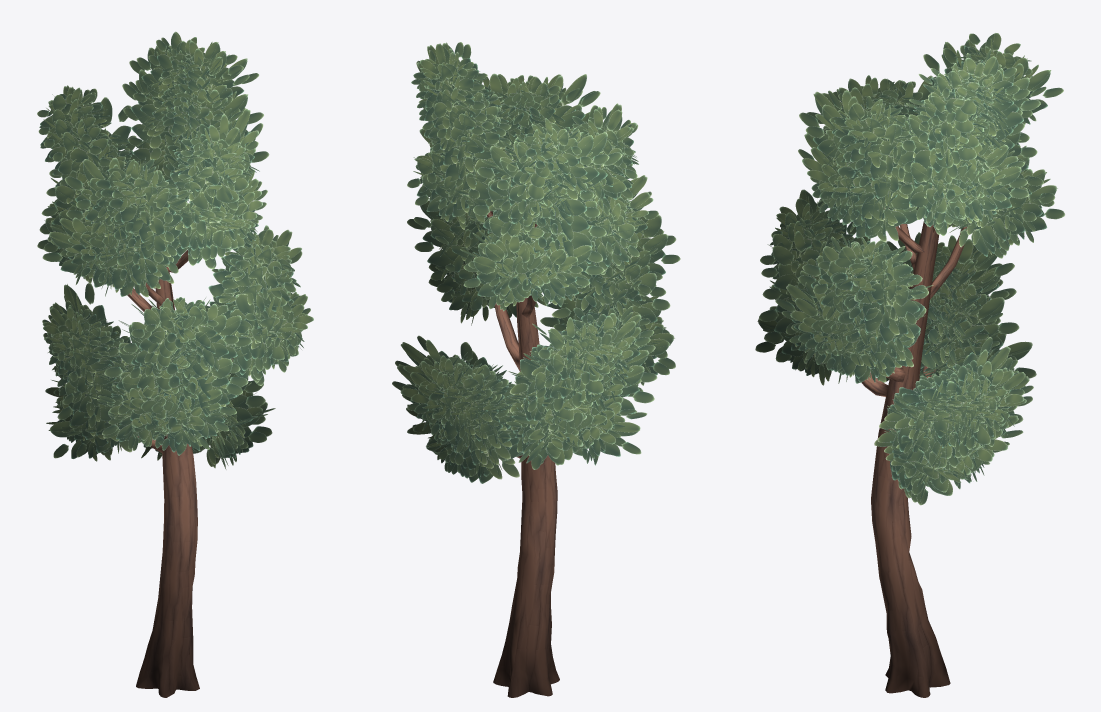
File: CommonTree_3.glb
The picture shows the model from 3 angles, left to right: view 1: azimuth 30°, elevation 25°; view 2: azimuth 150°, elevation 25°; view 3: azimuth 270°, elevation 25°; orthographic projection. The views are drawn at different scales.
Parts seen in each view (by area): view 1: CommonTree_3; view 2: CommonTree_3; view 3: CommonTree_3.
Part boxes in pixels (x1,y1,x2,y2): CommonTree_3: (37, 31, 313, 697); CommonTree_3: (392, 42, 680, 697); CommonTree_3: (755, 33, 1065, 697).
Bounding box in the file's own units: 4.36 × 9.55 × 4.53.
2 materials, 2 textured.
